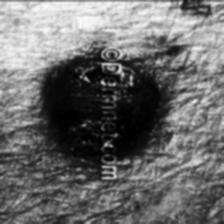Potentially Malignant Skin Tumors: (46, 60, 162, 160)
